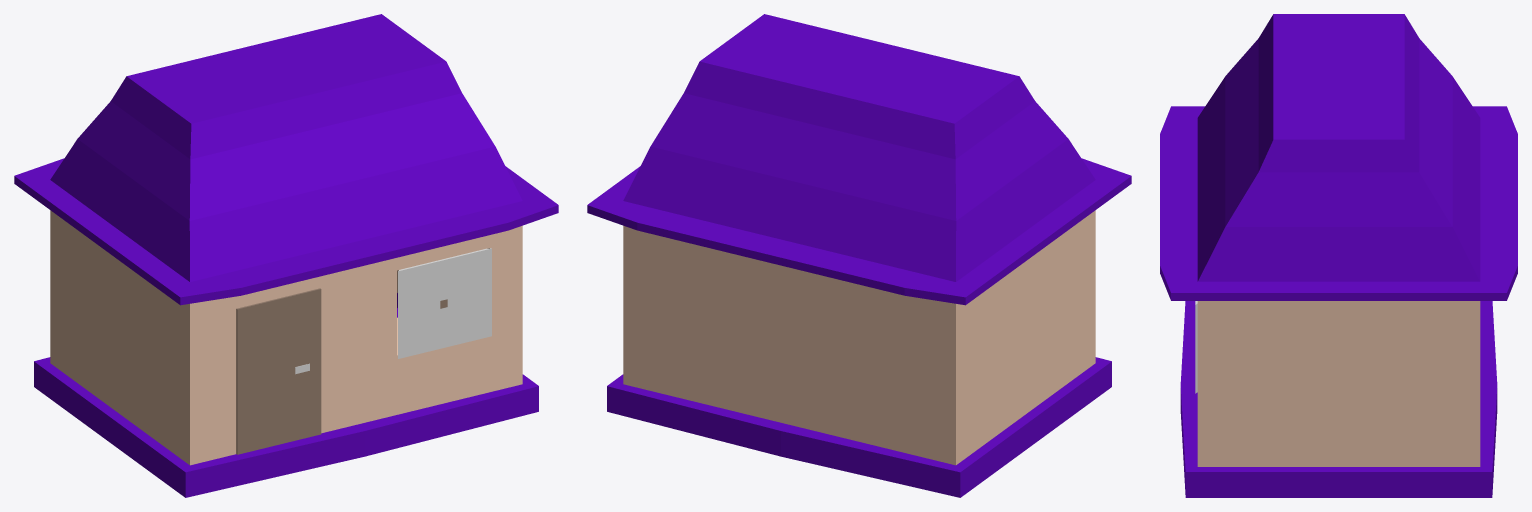
The model's file is House1.fbx.
The picture shows the model from 3 angles, left to right: view 1: azimuth 30°, elevation 25°; view 2: azimuth 150°, elevation 25°; view 3: azimuth 270°, elevation 25°; orthographic projection.
Parts seen in each view (by area): view 1: House1_Body, Door1, Window1; view 2: House1_Body; view 3: House1_Body.
Part boxes in pixels (bbox=[...]): House1_Body: bbox=[14, 14, 558, 497]; Door1: bbox=[236, 288, 321, 454]; Window1: bbox=[398, 248, 491, 358]; House1_Body: bbox=[587, 14, 1131, 497]; House1_Body: bbox=[1160, 14, 1517, 497].
Bounding box in the file's own units: 902 × 753 × 731.
